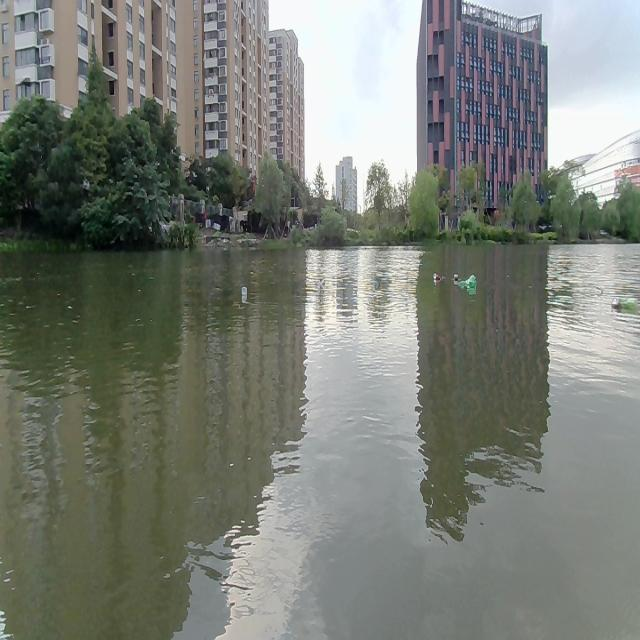bottle: (609, 291, 639, 313), (461, 273, 475, 291), (432, 271, 440, 285), (240, 285, 247, 298), (451, 270, 457, 278)
